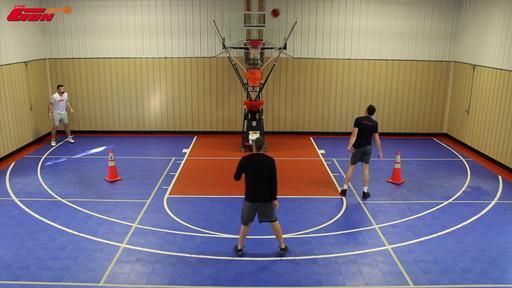ball: (271, 8, 280, 17)
human: (233, 138, 288, 257), (340, 104, 383, 200), (48, 85, 75, 146)
rim: (244, 39, 266, 60)
